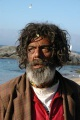male: (18, 24, 64, 89)
